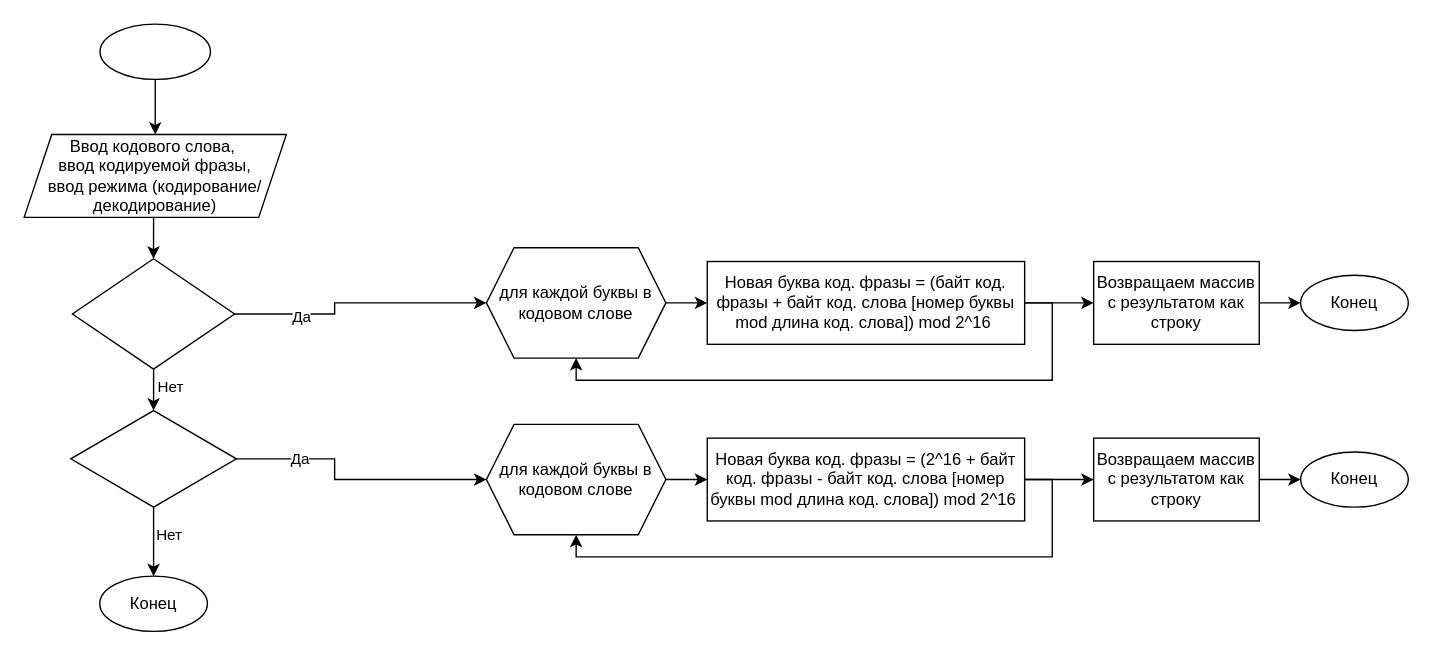
Some shapes in this 1432 by 656 pixel diagram are drawn without their labels. Here are the shapes that lost their labels. From the top down, the centre of each, then its label:
At (x=154, y=51): "Начало".
At (x=153, y=313): "Режим кодирования?".
At (x=152, y=458): "Режим декодирования?".
